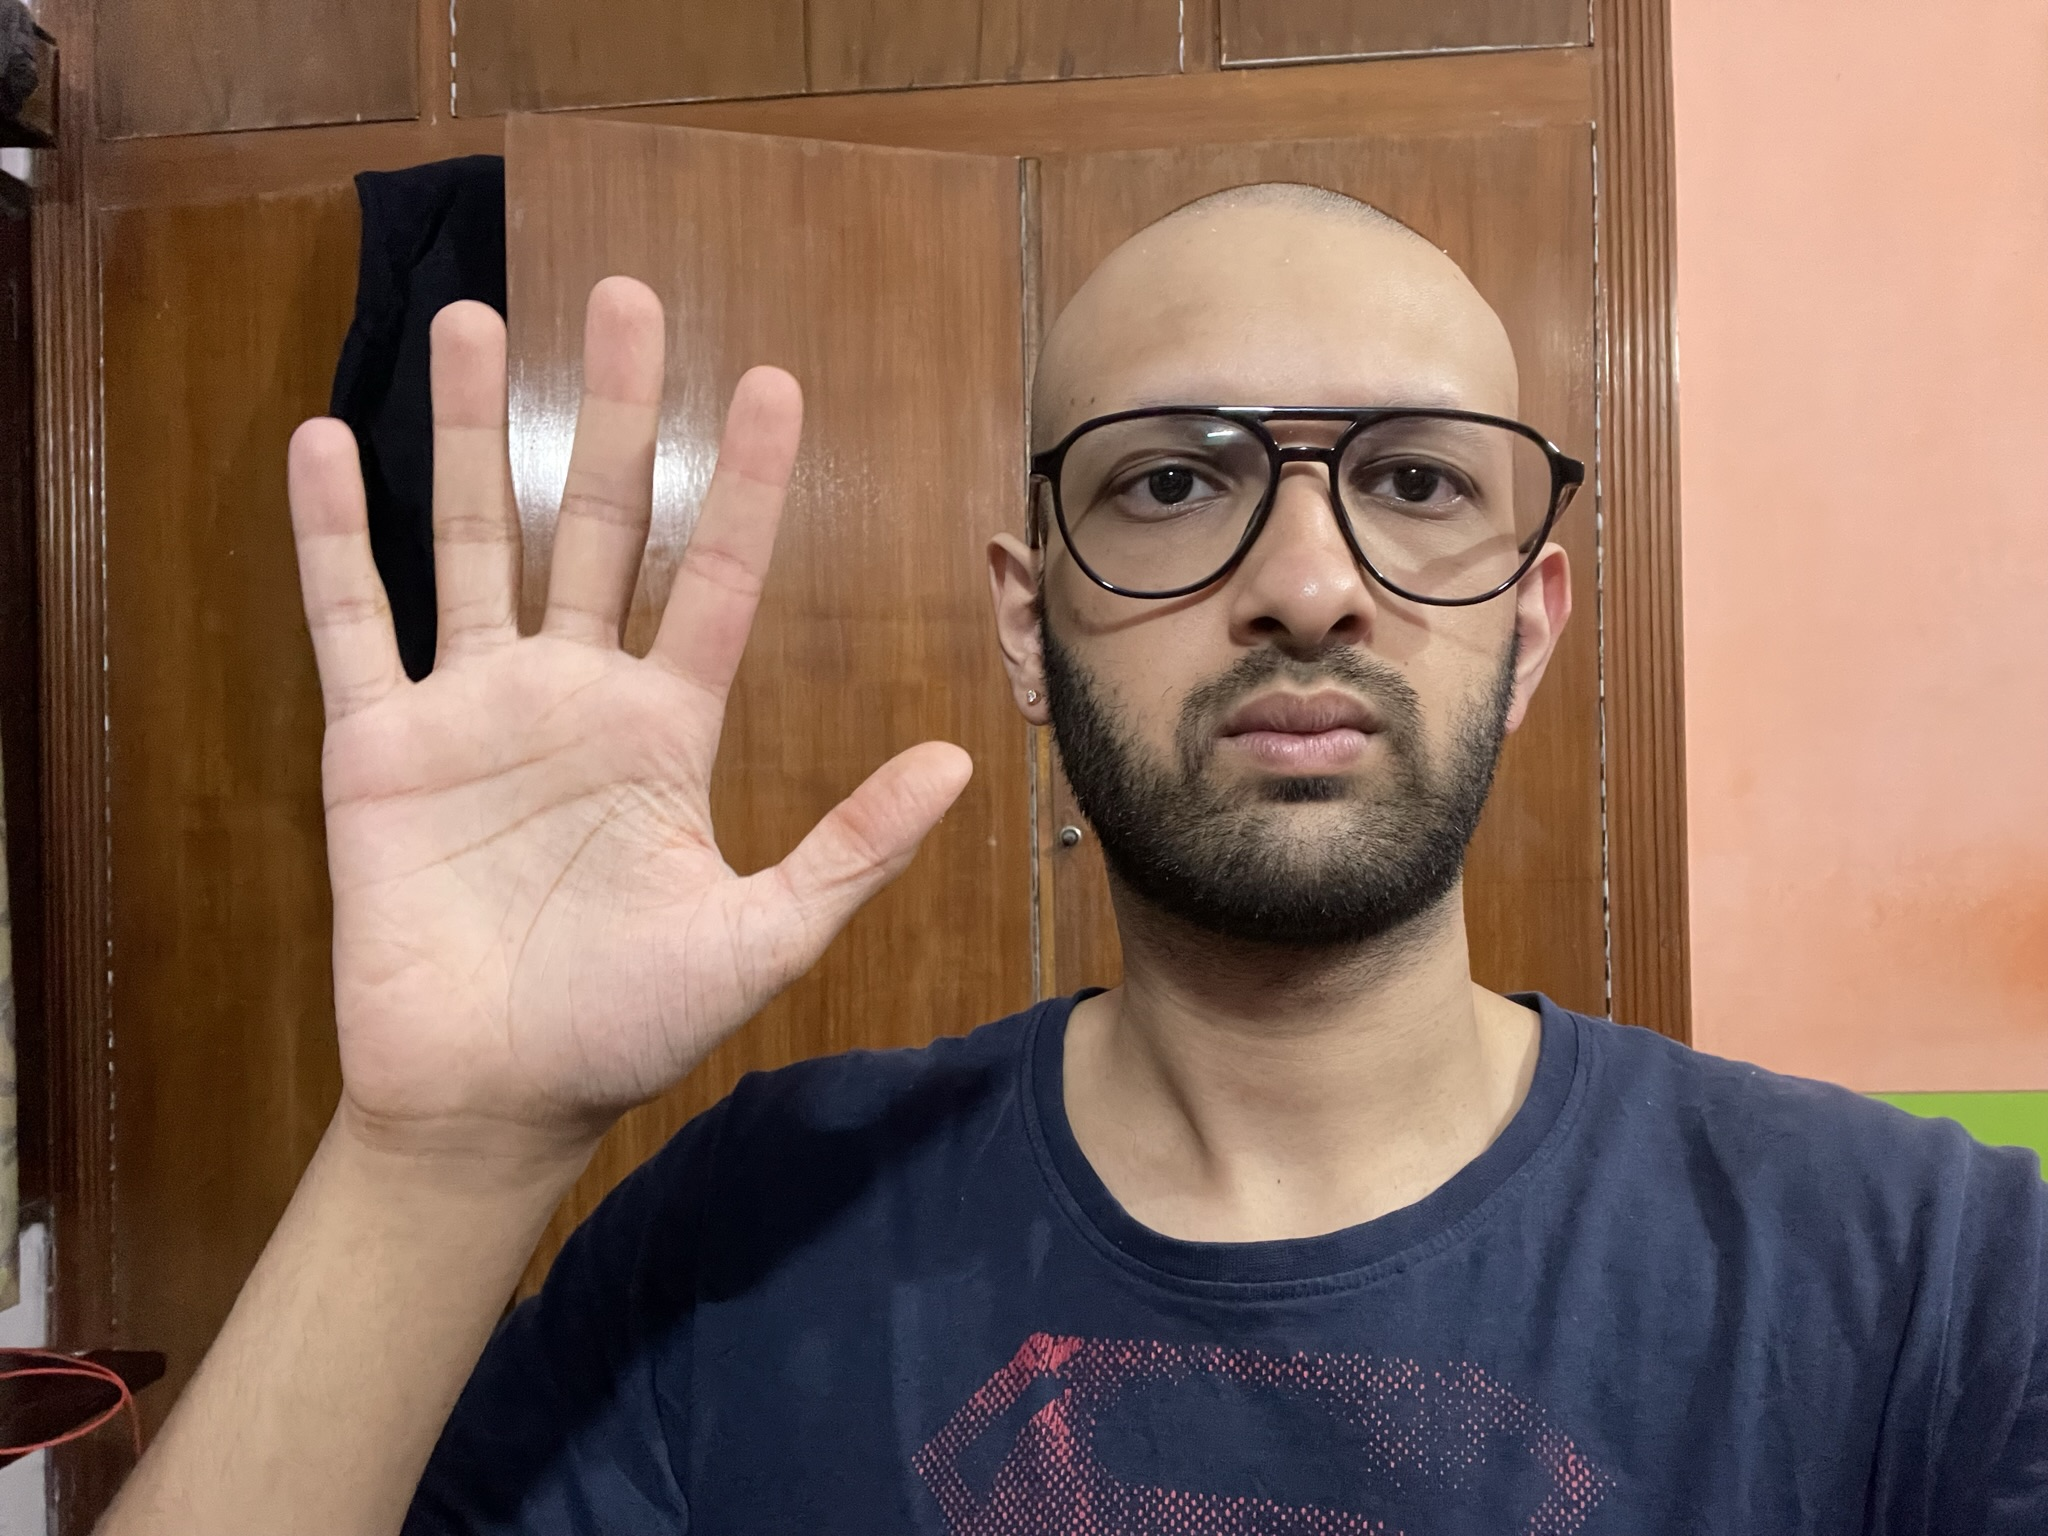Hello: (277, 268, 985, 1187)
